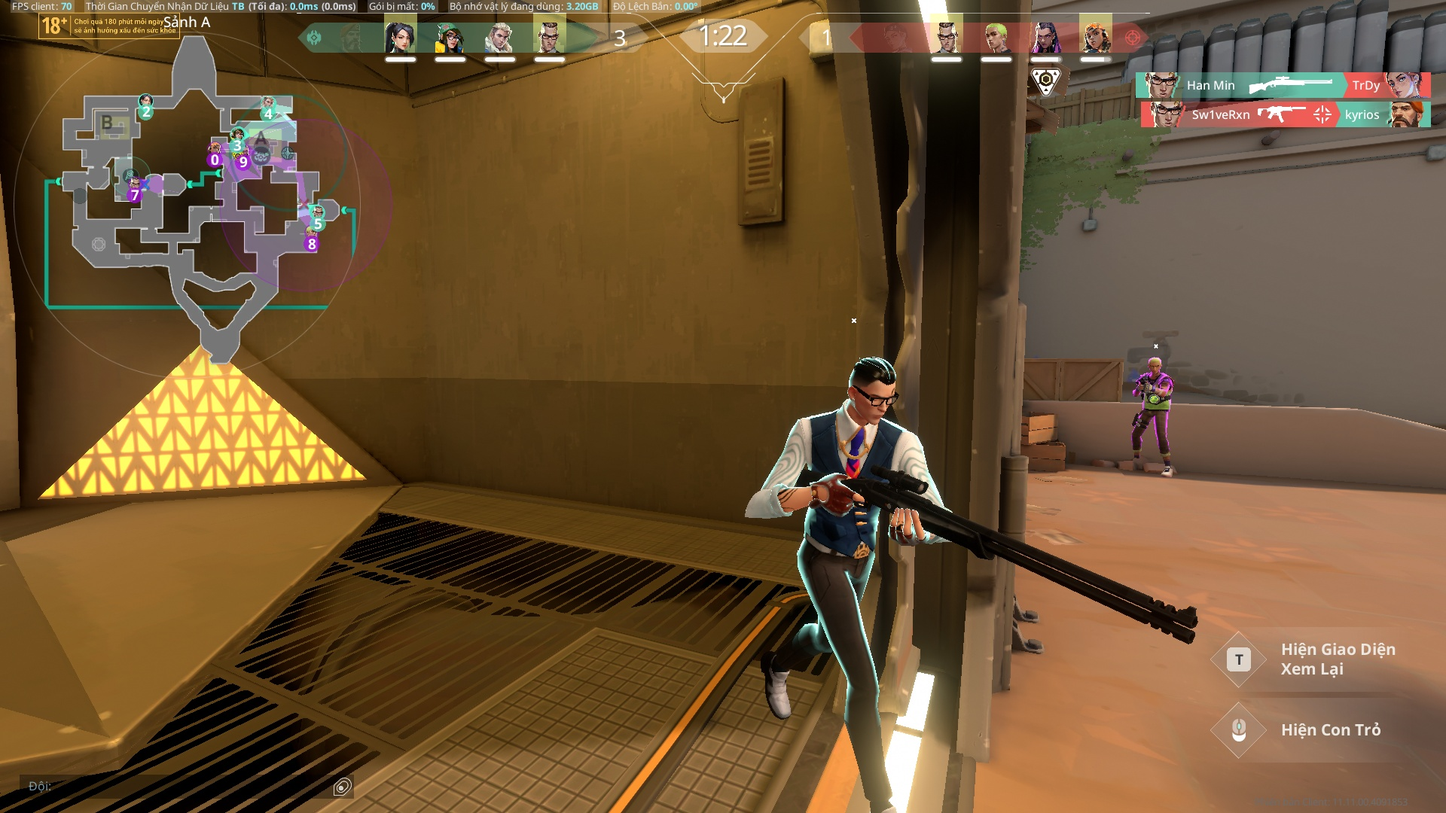body: (1141, 371, 1173, 408)
head: (1148, 357, 1162, 372)
